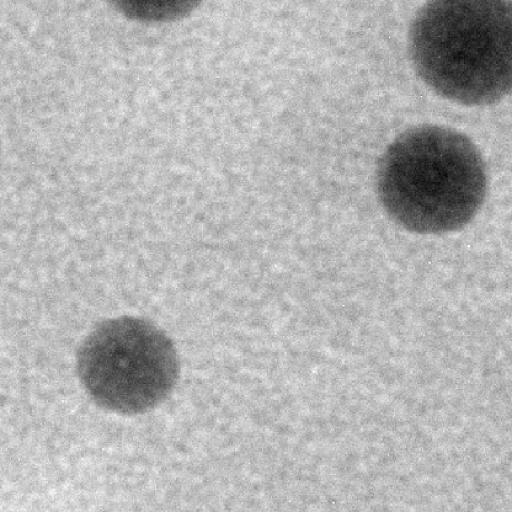Nanoparticles: (372, 122, 492, 233), (406, 0, 512, 114), (76, 311, 182, 418), (107, 0, 207, 30)
